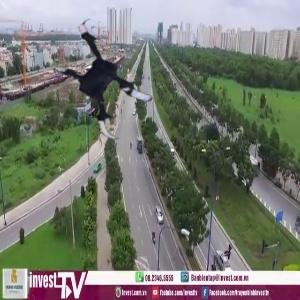drone: (48, 18, 174, 144)
